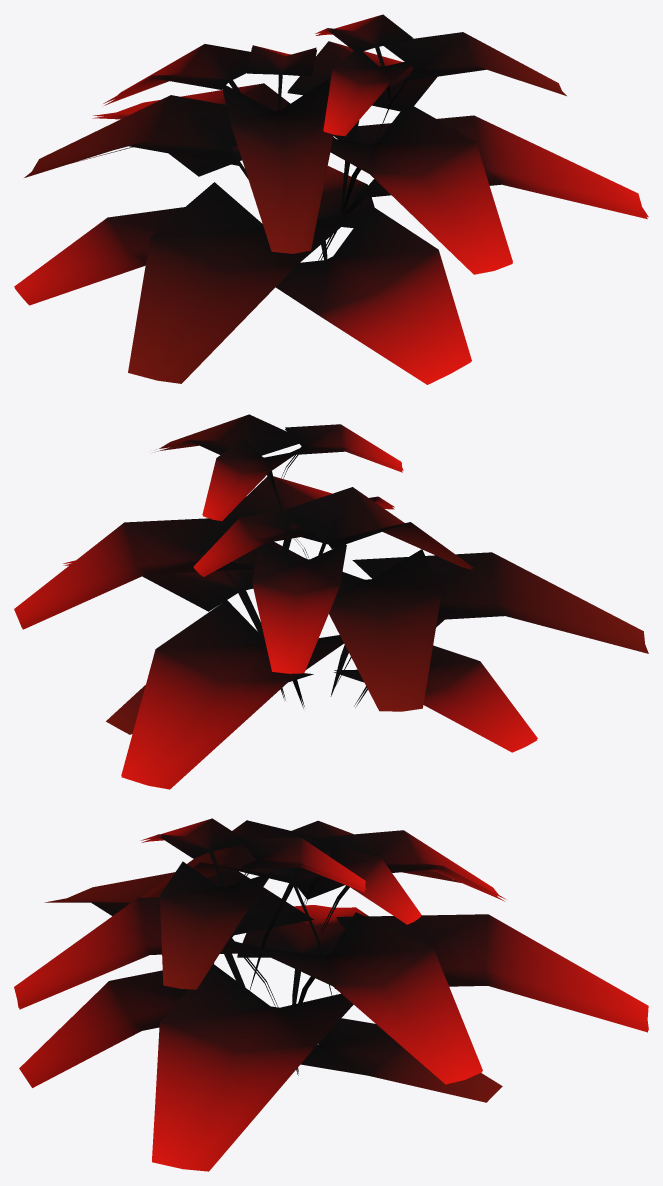
File: Fern03_AFS_high.FBX
3 renders of one model, top to bottom at view 1: azimuth 30°, elevation 25°; view 2: azimuth 150°, elevation 25°; view 3: azimuth 270°, elevation 25°, orthographic. The views are drawn at different scales.
Visible parts, largest first — view 1: Fern03_AFS_high; view 2: Fern03_AFS_high; view 3: Fern03_AFS_high.
Part boxes in pixels (x1,y1,x2,y2): Fern03_AFS_high: [14, 14, 648, 384]; Fern03_AFS_high: [14, 414, 648, 789]; Fern03_AFS_high: [14, 818, 648, 1171].
Bounding box in the file's own units: 0.9285 × 0.3861 × 0.8834.
